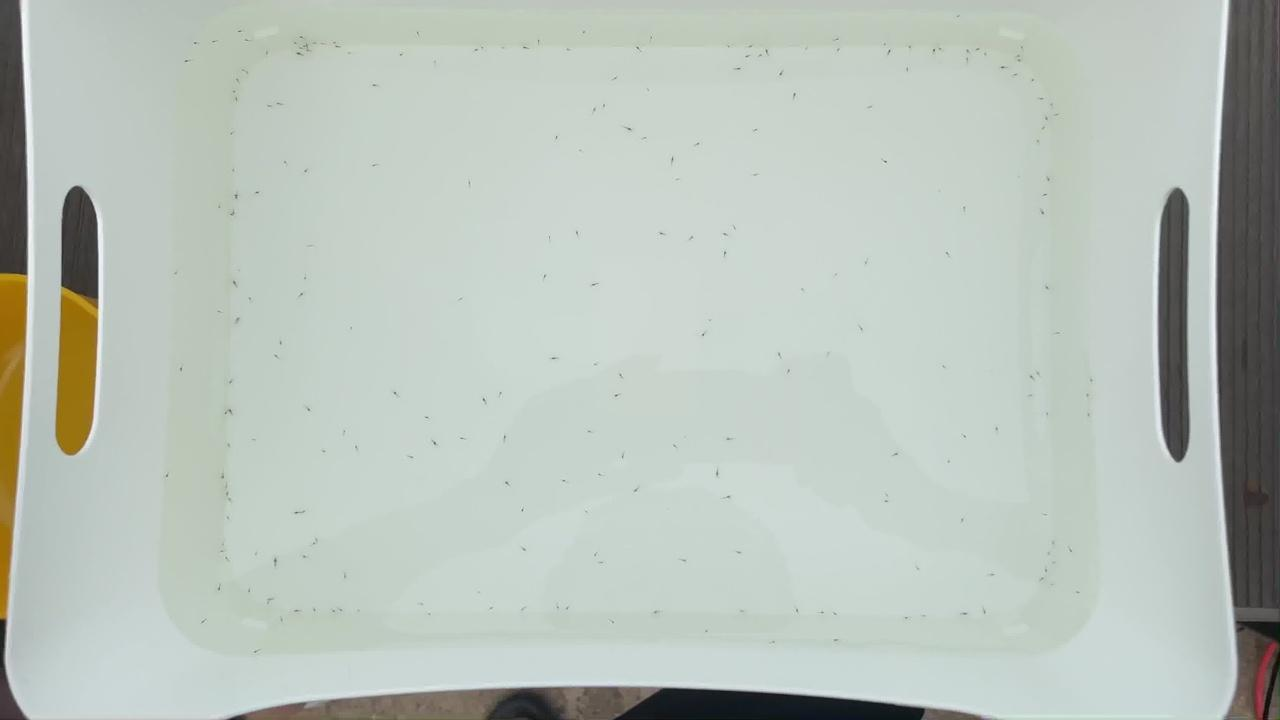shrimp: (1016, 44, 1028, 52), (1014, 52, 1026, 60), (1016, 60, 1028, 68), (1010, 69, 1022, 77), (996, 64, 1008, 72), (981, 51, 993, 59), (971, 42, 983, 50), (961, 48, 973, 56), (963, 56, 975, 64), (935, 46, 947, 54), (930, 48, 942, 56), (907, 42, 919, 50), (882, 49, 894, 57), (902, 66, 914, 74), (879, 41, 891, 49), (832, 36, 844, 44), (833, 47, 845, 55), (800, 46, 812, 54), (791, 92, 803, 100), (776, 72, 788, 80), (762, 47, 774, 55), (754, 54, 766, 62), (744, 41, 756, 49), (744, 51, 756, 59), (735, 65, 747, 73), (648, 34, 660, 42), (635, 45, 647, 53), (578, 28, 590, 36), (563, 47, 575, 55), (536, 38, 548, 46), (520, 45, 532, 53), (499, 46, 511, 54), (480, 45, 492, 53), (469, 46, 481, 54), (590, 106, 602, 114), (598, 103, 610, 111), (608, 76, 620, 84), (645, 87, 657, 95), (623, 124, 635, 132), (640, 135, 652, 143), (667, 157, 679, 165), (691, 141, 703, 149), (749, 125, 761, 133), (863, 105, 875, 113), (881, 159, 893, 167), (750, 173, 762, 181), (673, 177, 685, 185), (576, 149, 588, 157), (551, 133, 563, 141), (463, 180, 475, 188), (540, 273, 552, 281), (544, 236, 556, 244), (570, 230, 582, 238), (591, 279, 603, 287), (659, 231, 671, 239), (686, 235, 698, 243), (719, 250, 731, 258), (720, 232, 732, 240), (730, 224, 742, 232), (795, 286, 807, 294), (830, 272, 842, 280), (863, 258, 875, 266), (943, 251, 955, 259), (959, 206, 971, 214), (1038, 208, 1050, 216), (1040, 191, 1052, 199), (1044, 176, 1056, 184), (1032, 139, 1044, 147), (1037, 124, 1049, 132), (1042, 115, 1054, 123), (1052, 110, 1064, 118), (1047, 102, 1059, 110), (1036, 94, 1048, 102), (1028, 77, 1040, 85), (953, 13, 965, 21), (1043, 283, 1055, 291), (1052, 328, 1064, 336), (1086, 377, 1098, 385), (1083, 393, 1095, 401), (1083, 415, 1095, 423), (1042, 413, 1054, 421), (1024, 393, 1036, 401), (1024, 373, 1036, 381), (1032, 368, 1044, 376), (939, 364, 951, 372), (853, 323, 865, 331), (821, 350, 833, 358), (782, 368, 794, 376), (773, 352, 785, 360), (695, 332, 707, 340), (704, 315, 716, 323), (618, 371, 630, 379), (611, 392, 623, 400), (592, 362, 604, 370), (548, 354, 560, 362), (498, 389, 510, 397), (474, 400, 486, 408), (459, 433, 471, 441), (500, 435, 512, 443), (502, 480, 514, 488), (518, 508, 530, 516), (520, 547, 532, 555), (560, 477, 572, 485), (595, 471, 607, 479), (619, 451, 631, 459), (586, 427, 598, 435), (669, 445, 681, 453), (722, 435, 734, 443), (710, 470, 722, 478), (723, 493, 735, 501), (633, 486, 645, 494), (891, 450, 903, 458), (880, 499, 892, 507), (944, 458, 956, 466), (962, 432, 974, 440), (990, 425, 1002, 433), (1066, 547, 1078, 555), (1073, 588, 1085, 596), (1037, 575, 1049, 583), (1041, 565, 1053, 573), (1043, 549, 1055, 557), (1047, 538, 1059, 546), (1041, 508, 1053, 516), (956, 517, 968, 525), (987, 572, 999, 580), (979, 607, 991, 615), (960, 609, 972, 617), (914, 565, 926, 573), (920, 609, 932, 617), (900, 616, 912, 624), (831, 637, 843, 645), (831, 610, 843, 618), (816, 608, 828, 616), (793, 606, 805, 614), (769, 638, 781, 646), (734, 607, 746, 615), (733, 548, 745, 556), (679, 556, 691, 564), (652, 609, 664, 617), (594, 560, 606, 568), (591, 549, 603, 557), (564, 605, 576, 613), (552, 605, 564, 613), (519, 606, 531, 614), (487, 605, 499, 613), (425, 612, 437, 620), (419, 600, 431, 608), (336, 605, 348, 613), (329, 608, 341, 616), (310, 606, 322, 614), (293, 606, 305, 614), (276, 616, 288, 624), (253, 646, 265, 654), (196, 619, 208, 627), (210, 588, 222, 596), (244, 588, 256, 596), (265, 596, 277, 604), (270, 559, 282, 567), (300, 552, 312, 560), (310, 536, 322, 544), (341, 573, 353, 581), (295, 507, 307, 515), (252, 549, 264, 557), (222, 554, 234, 562), (217, 547, 229, 555), (223, 514, 235, 522), (226, 499, 238, 507), (224, 490, 236, 498), (219, 480, 231, 488), (217, 474, 229, 482), (163, 471, 175, 479), (174, 365, 186, 373), (225, 378, 237, 386), (226, 408, 238, 416), (219, 408, 231, 416), (223, 440, 235, 448), (248, 436, 260, 444), (303, 405, 315, 413), (321, 448, 333, 456), (339, 429, 351, 437), (351, 444, 363, 452), (406, 453, 418, 461), (430, 439, 442, 447), (423, 413, 435, 421), (392, 391, 404, 399), (271, 353, 283, 361), (274, 338, 286, 346), (345, 324, 357, 332), (298, 290, 310, 298), (301, 275, 313, 283), (308, 241, 320, 249), (229, 277, 241, 285), (245, 296, 257, 304), (231, 318, 243, 326), (215, 308, 227, 316), (172, 267, 184, 275), (229, 208, 241, 216), (231, 192, 243, 200), (252, 188, 264, 196), (214, 203, 226, 211), (301, 168, 313, 176), (457, 300, 469, 308), (371, 160, 383, 168), (281, 158, 293, 166), (227, 167, 239, 175), (225, 130, 237, 138), (266, 104, 278, 112), (274, 99, 286, 107), (372, 82, 384, 90), (395, 50, 407, 58), (412, 28, 424, 36), (332, 42, 344, 50), (330, 37, 342, 45), (312, 37, 324, 45), (303, 41, 315, 49), (295, 33, 307, 41), (289, 41, 301, 49), (295, 50, 307, 58), (261, 48, 273, 56), (241, 66, 253, 74), (232, 77, 244, 85), (229, 87, 241, 95), (231, 96, 243, 104), (182, 58, 194, 66), (189, 38, 201, 46), (208, 37, 220, 45), (236, 27, 248, 35), (242, 37, 254, 45), (342, 51, 354, 59), (429, 61, 441, 69)
